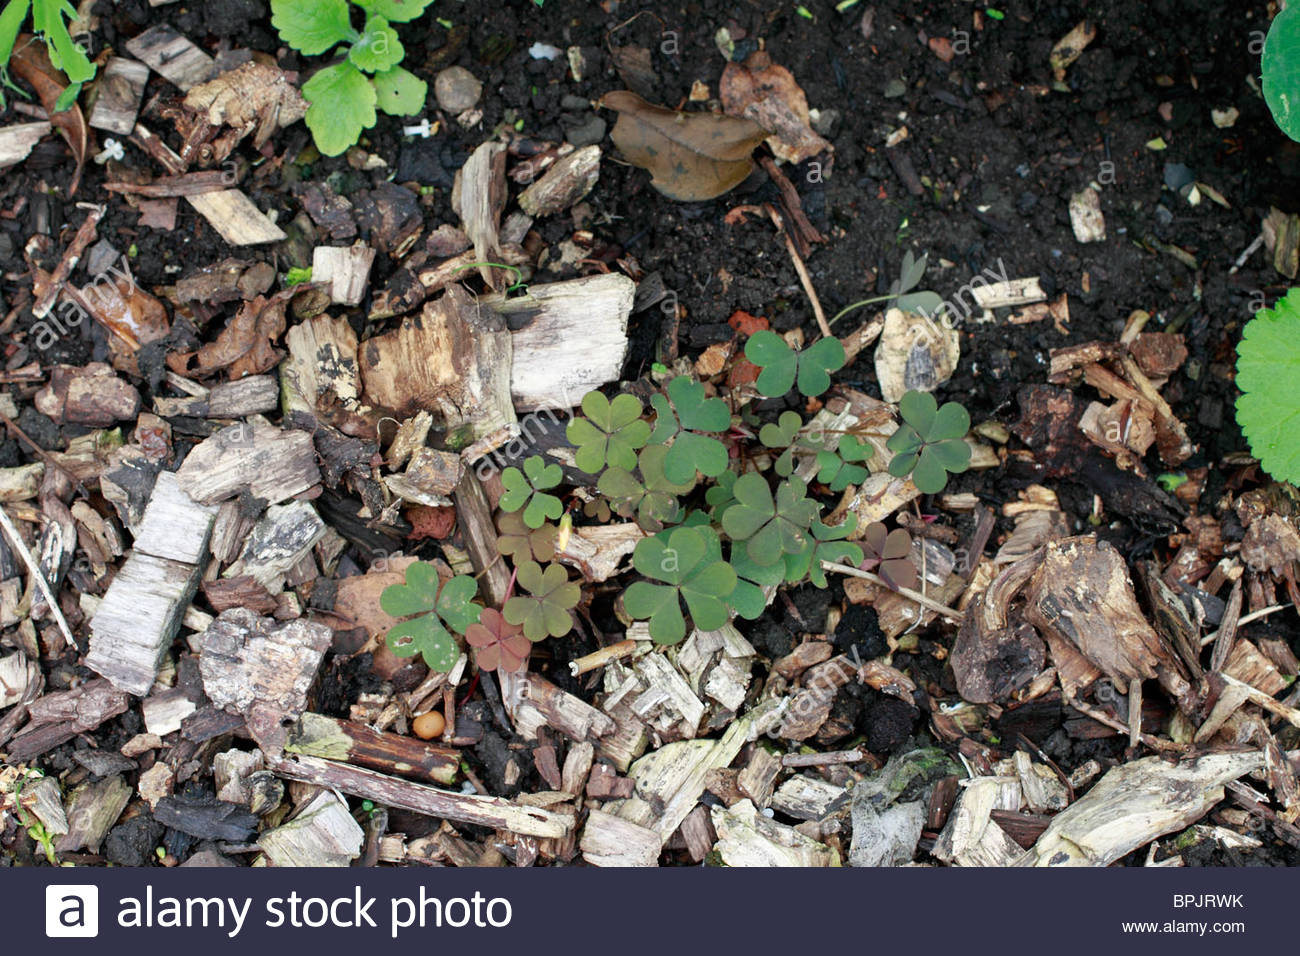oxalis: (459, 360, 962, 635)
